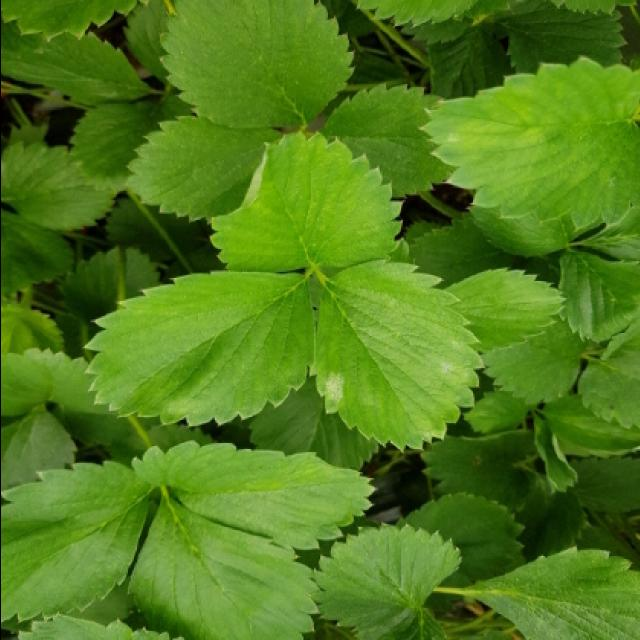Powdery Mildew Leaf: (309, 257, 484, 453)
